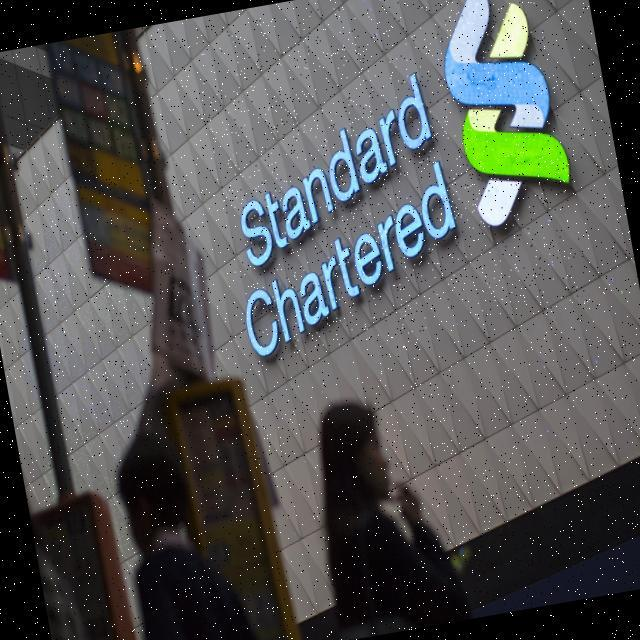Standard Chartered: (192, 0, 591, 360)
